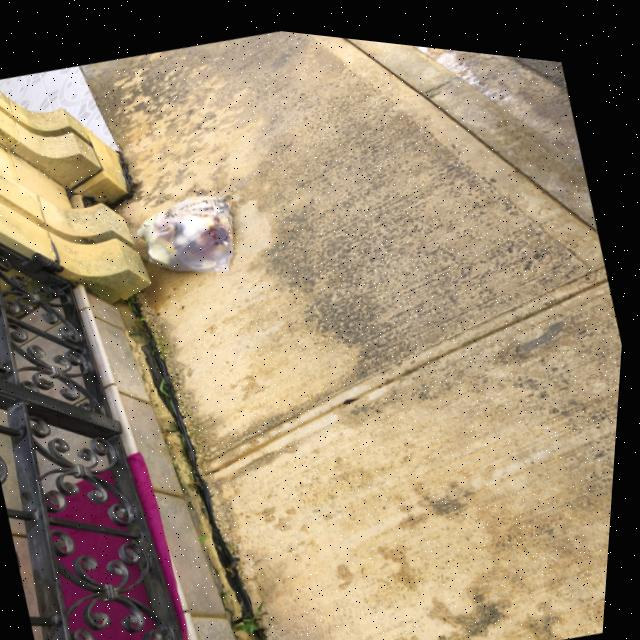Organic Waste -White Bag-: (117, 160, 259, 296)
